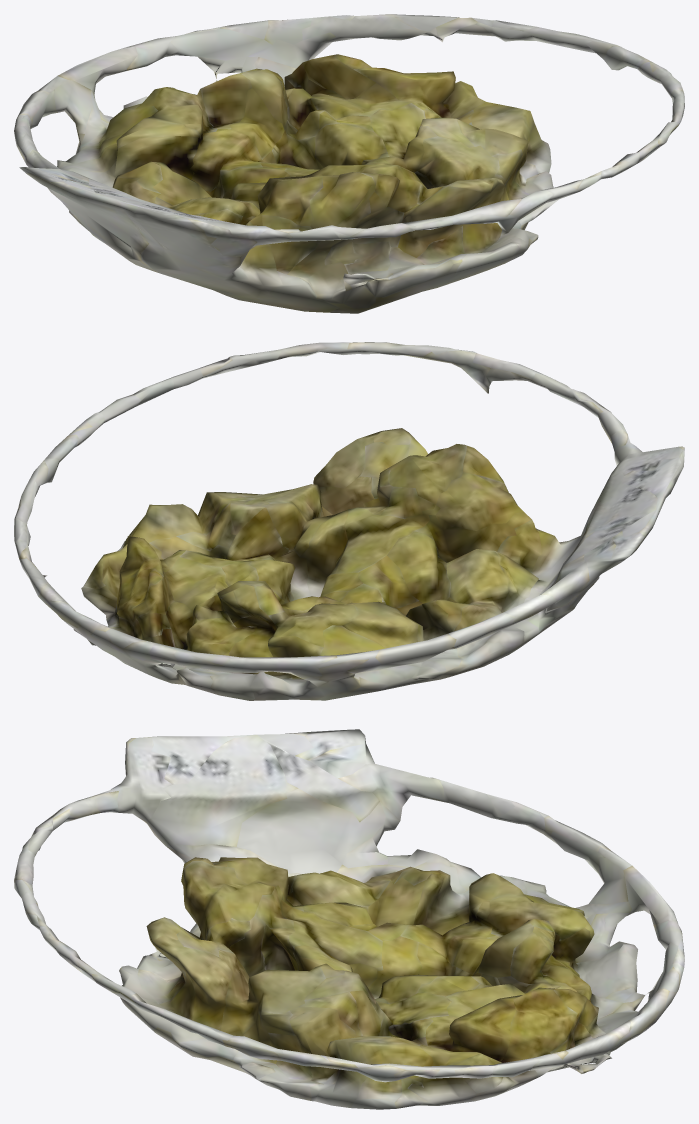
The model's file is hall.glb.
3 renders of one model, top to bottom at view 1: azimuth 30°, elevation 25°; view 2: azimuth 150°, elevation 25°; view 3: azimuth 270°, elevation 25°, orthographic. The views are drawn at different scales.
Bounding box in the file's own units: 0.8455 × 0.2563 × 0.7999.
Materials: 1 (1 with a texture image).
